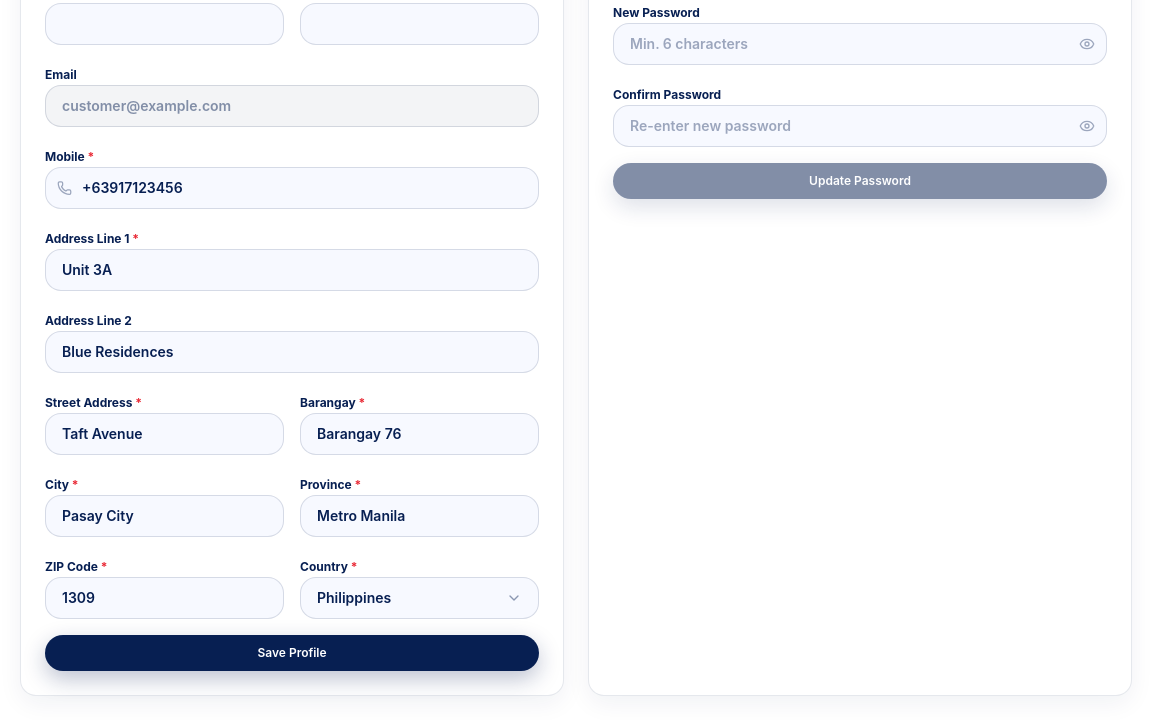
Profile › shows inline validation labels for missing names and short mobile numbers
(page scrolled)
What coordinates should you click on to do the following:
click the button "Save Profile"
I would click on:
 (292, 653)
Its box is [45, 635, 539, 671].
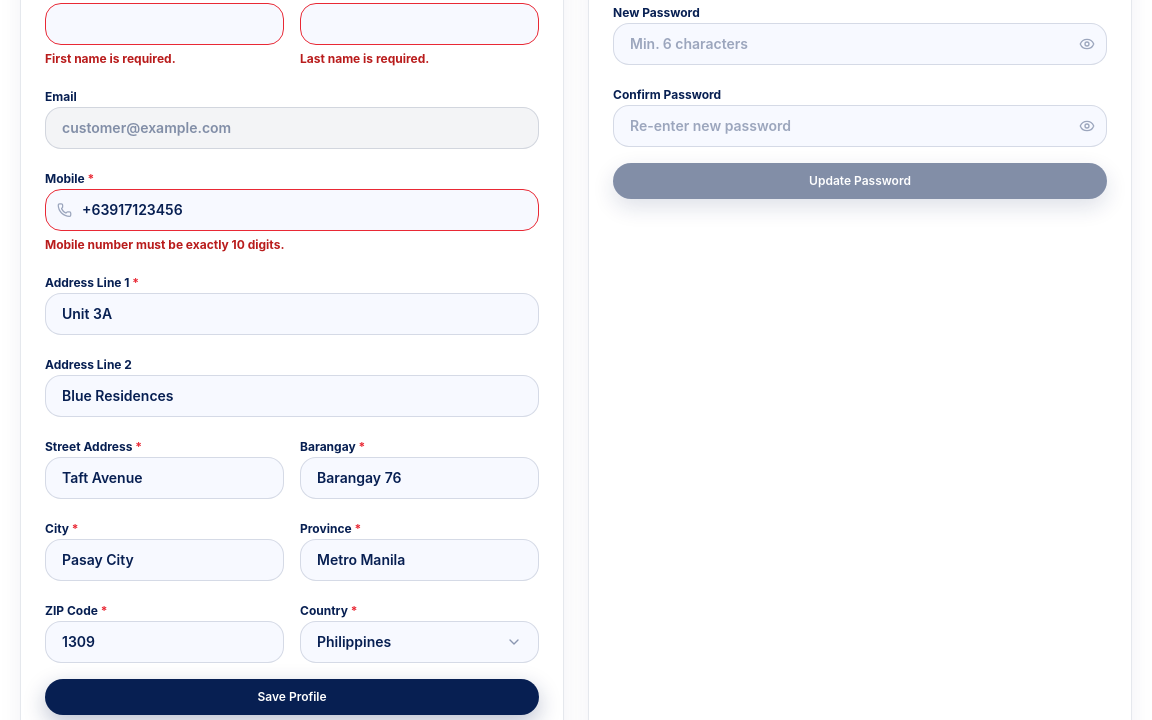
Expected: the text "First name is required." is shown, [45, 51, 176, 66]
Expected: the text "Last name is required." is shown, [300, 51, 429, 66]
Expected: the text "Mobile number must be exactly 10 digits." is shown, [45, 237, 284, 252]
